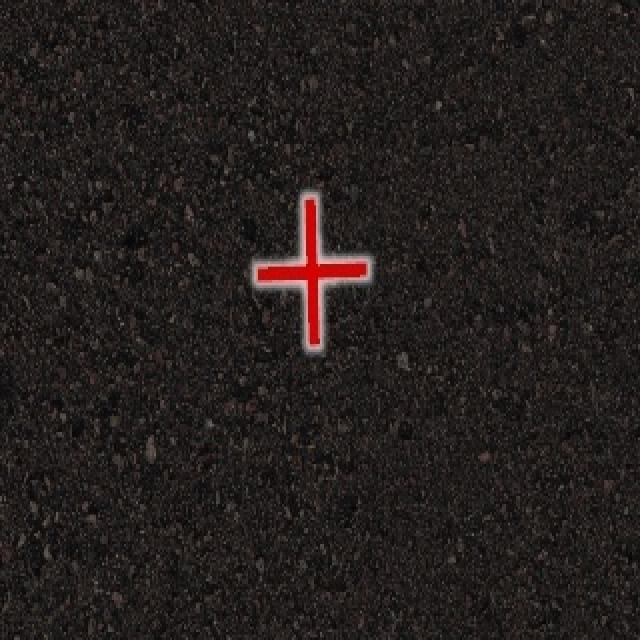x_marker: (255, 196, 367, 345)
